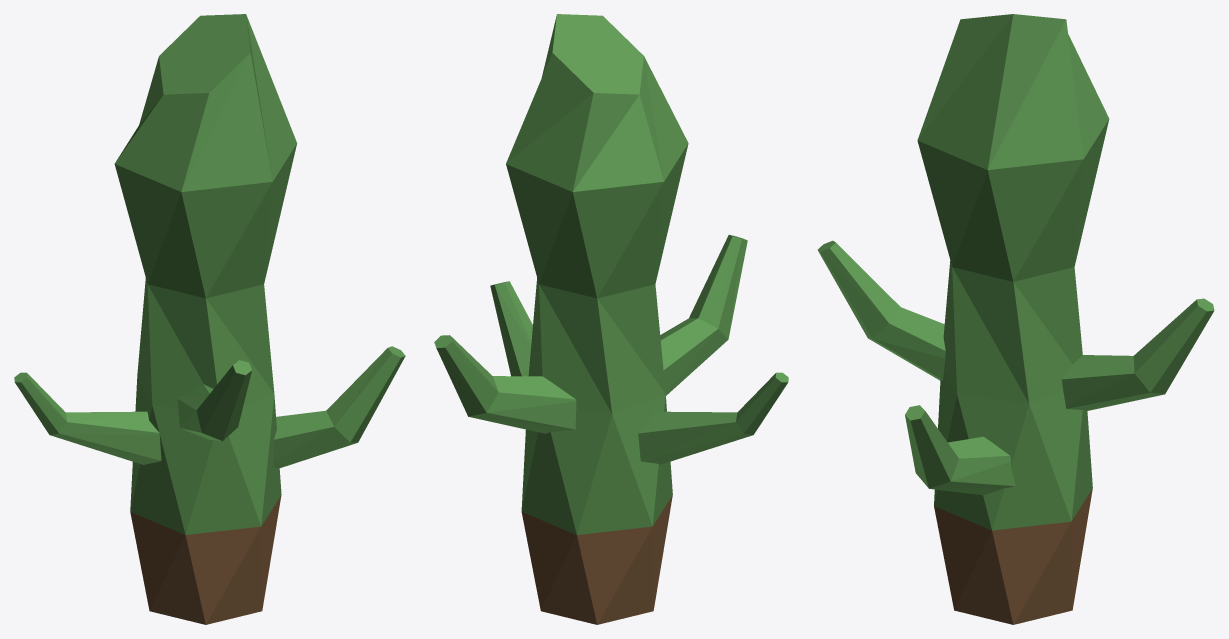
The model's file is tree3d-188.glb.
The picture shows the model from 3 angles, left to right: view 1: azimuth 30°, elevation 25°; view 2: azimuth 150°, elevation 25°; view 3: azimuth 270°, elevation 25°; orthographic projection. The views are drawn at different scales.
Visible parts, largest first — view 1: tree3d-188; view 2: tree3d-188; view 3: tree3d-188.
Boxes of the visible parts, bbox=[...] form: tree3d-188: bbox=[14, 14, 405, 624]; tree3d-188: bbox=[434, 14, 788, 624]; tree3d-188: bbox=[817, 14, 1214, 624].
Size of the model in its own units: 0.6245 by 1 by 0.597.
